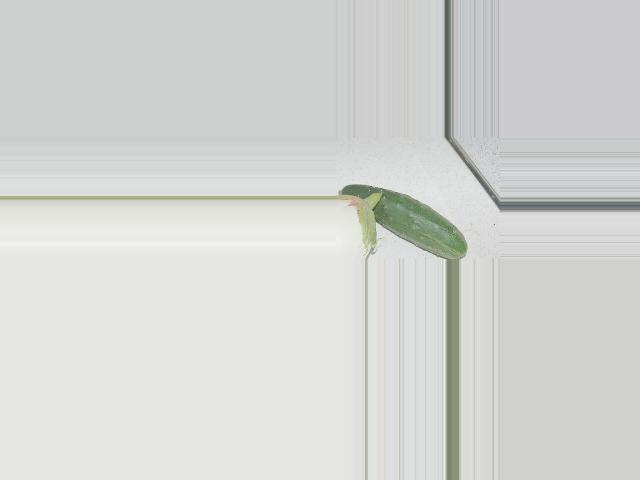cucumber: (338, 185, 467, 260)
